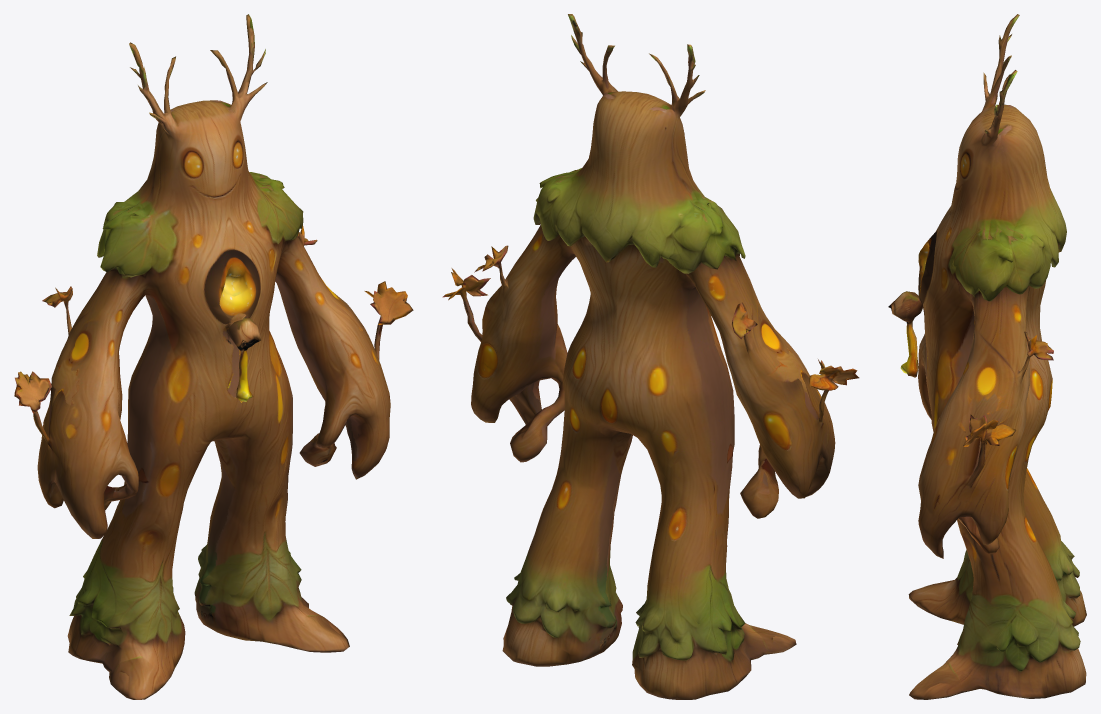
The model's file is treeman.glb.
3 views of the same model, side by side, from view 1: azimuth 30°, elevation 25°; view 2: azimuth 150°, elevation 25°; view 3: azimuth 270°, elevation 25° (orthographic). The views are drawn at different scales.
Size of the model in its own units: 1.35 by 1.99 by 0.5941.
1 material, 1 textured.
